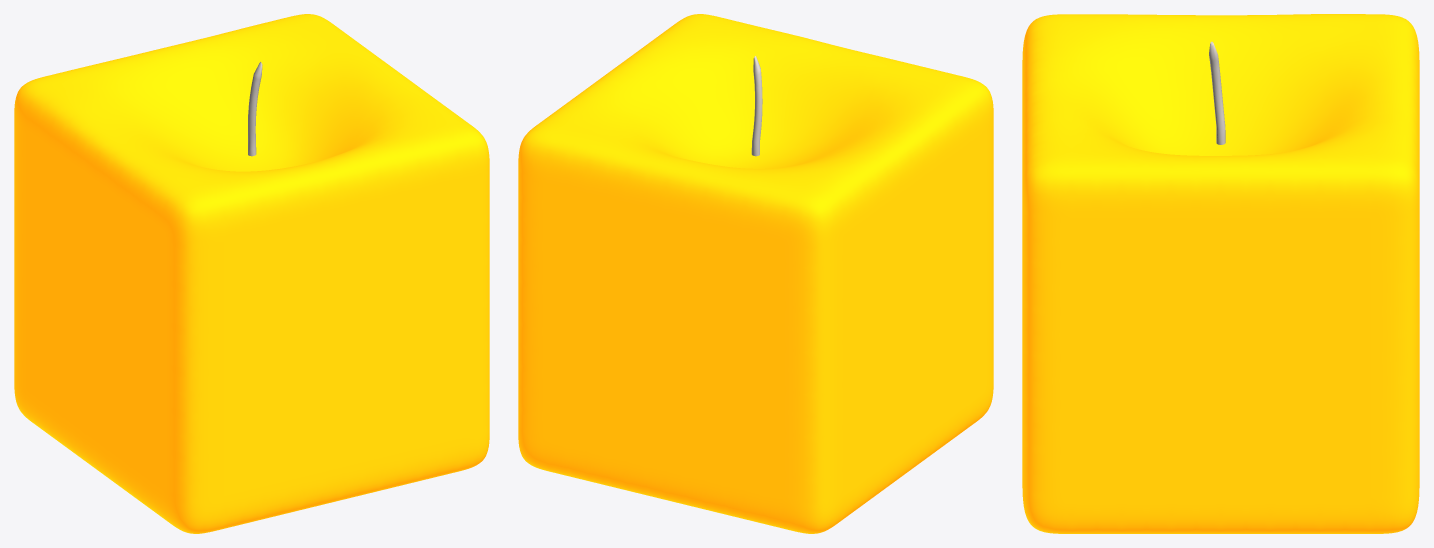
The model's file is candle.gltf.
3 views of the same model, side by side, from view 1: azimuth 30°, elevation 25°; view 2: azimuth 150°, elevation 25°; view 3: azimuth 270°, elevation 25° (orthographic). The views are drawn at different scales.
Visible parts, largest first — view 1: inner.1, W; view 2: inner.1, W; view 3: inner.1, W.
Boxes of the visible parts, bbox=[...] form: inner.1: bbox=[14, 14, 489, 533]; W: bbox=[248, 62, 262, 156]; inner.1: bbox=[518, 14, 993, 533]; W: bbox=[751, 56, 762, 156]; inner.1: bbox=[1022, 14, 1419, 533]; W: bbox=[1209, 41, 1225, 144].
Size of what is drawn, in the model's own units: 45.27 by 52.9 by 45.27.
